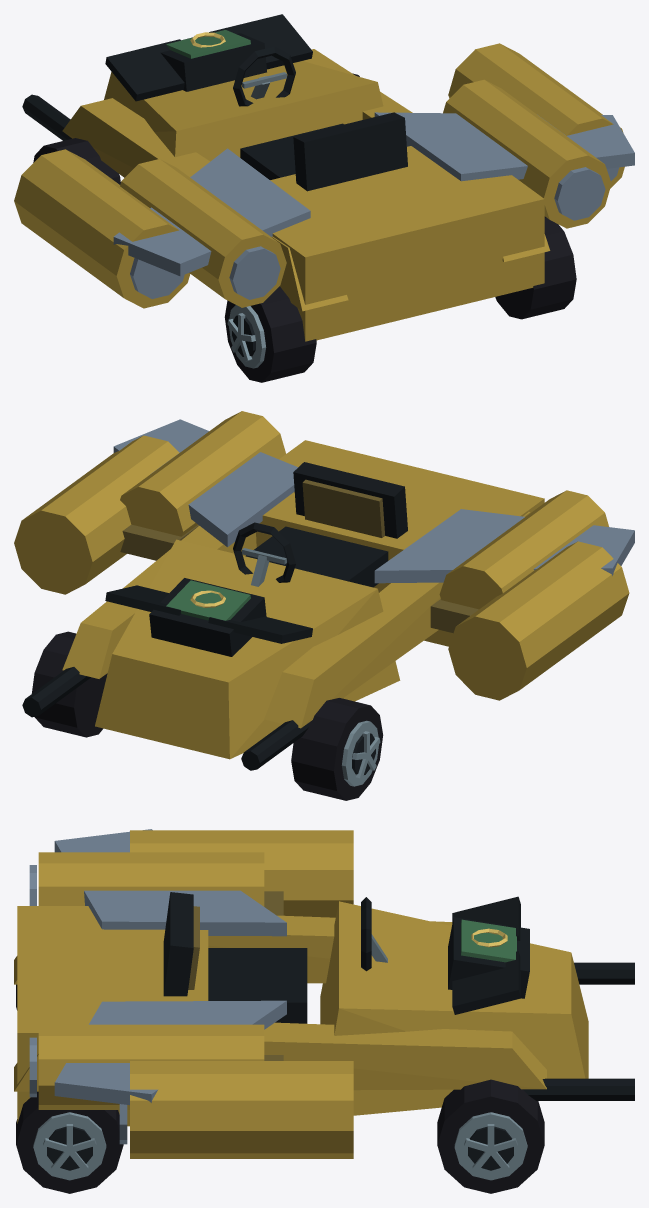
File: kart.glb
The picture shows the model from 3 angles, top to bottom: view 1: azimuth 30°, elevation 25°; view 2: azimuth 150°, elevation 25°; view 3: azimuth 270°, elevation 25°; orthographic projection. The views are drawn at different scales.
Parts seen in each view (by area): view 1: identity-gunship-gunship-armored-cargo-fuselage, identity-gunship-motif-engine-pods, identity-gunship-motif-wings, identity-gunship-driver-cockpit, wheel-rear-left, identity-gunship-motif-scanner, wheel-rear-right, wheel-front-left; view 2: identity-gunship-gunship-armored-cargo-fuselage, identity-gunship-motif-engine-pods, identity-gunship-motif-wings, identity-gunship-driver-cockpit, wheel-front-left, identity-gunship-motif-scanner, wheel-front-right; view 3: identity-gunship-gunship-armored-cargo-fuselage, identity-gunship-motif-engine-pods, identity-gunship-motif-wings, identity-gunship-driver-cockpit, wheel-front-right, wheel-rear-right, identity-gunship-motif-scanner.
Boxes of the visible parts, x1,y1,x2,y2 form: identity-gunship-gunship-armored-cargo-fuselage: (14,14,624,341); identity-gunship-motif-engine-pods: (120,79,611,307); identity-gunship-motif-wings: (113,112,634,276); identity-gunship-driver-cockpit: (233,46,407,191); wheel-rear-left: (224,286,316,382); identity-gunship-motif-scanner: (160,30,266,91); wheel-rear-right: (495,216,576,319); wheel-front-left: (33,138,120,184); identity-gunship-gunship-armored-cargo-fuselage: (14,435,629,770); identity-gunship-motif-engine-pods: (120,411,608,609); identity-gunship-motif-wings: (113,419,634,583); identity-gunship-driver-cockpit: (233,462,407,587); wheel-front-left: (291,698,383,800); identity-gunship-motif-scanner: (149,578,266,656); wheel-front-right: (31,631,107,737); identity-gunship-gunship-armored-cargo-fuselage: (14,830,634,1158); identity-gunship-motif-engine-pods: (29,852,264,1109); identity-gunship-motif-wings: (54,829,286,1105); identity-gunship-driver-cockpit: (163,892,387,1023); wheel-front-right: (437,1079,544,1193); wheel-rear-right: (16,1091,123,1193); identity-gunship-motif-scanner: (448,917,529,998).
Size of the model in its own units: 3 by 1.09 by 2.89.
